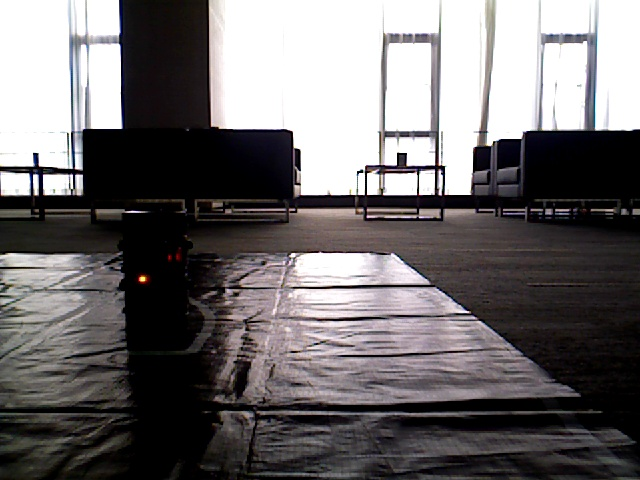yellow: (117, 211, 168, 311)
